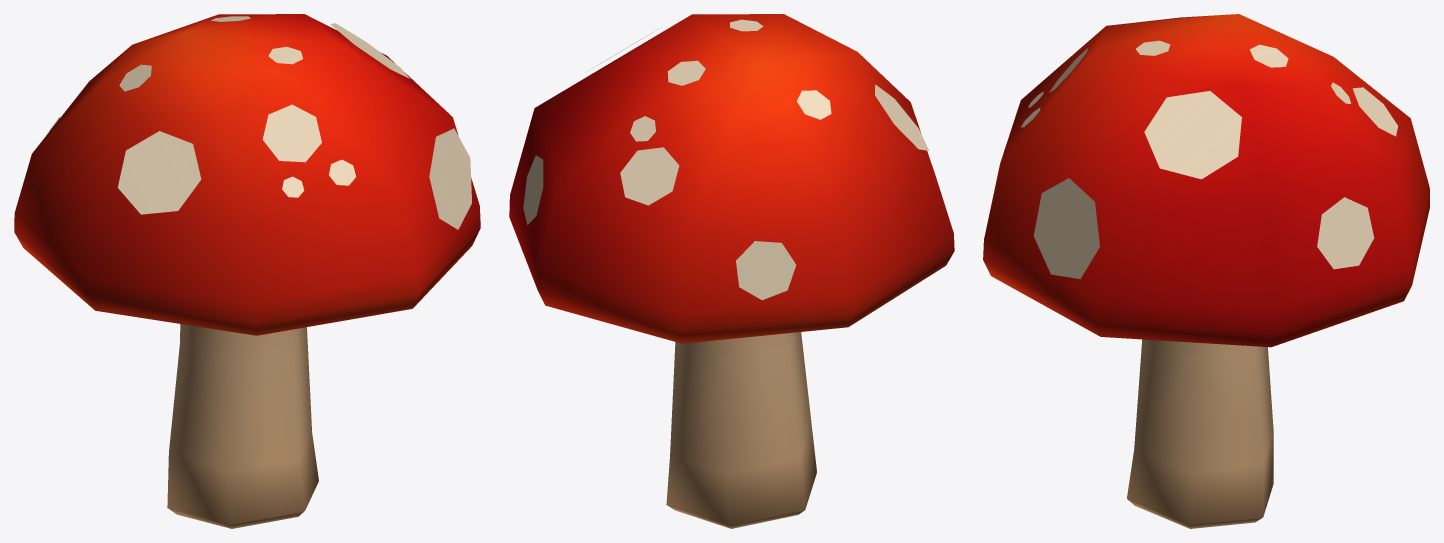
Rendered from SM_AmanitaMushroom_C.fbx.
The picture shows the model from 3 angles, left to right: view 1: azimuth 30°, elevation 25°; view 2: azimuth 150°, elevation 25°; view 3: azimuth 270°, elevation 25°; orthographic projection. The views are drawn at different scales.
Visible parts, largest first — view 1: SM_AmanitaMushroom_C; view 2: SM_AmanitaMushroom_C; view 3: SM_AmanitaMushroom_C.
Part boxes in pixels (x1,y1,x2,y2): SM_AmanitaMushroom_C: (14,14,480,528); SM_AmanitaMushroom_C: (509,14,954,528); SM_AmanitaMushroom_C: (983,14,1429,528).
Size of the model in its own units: 22.08 by 25.66 by 22.09.
